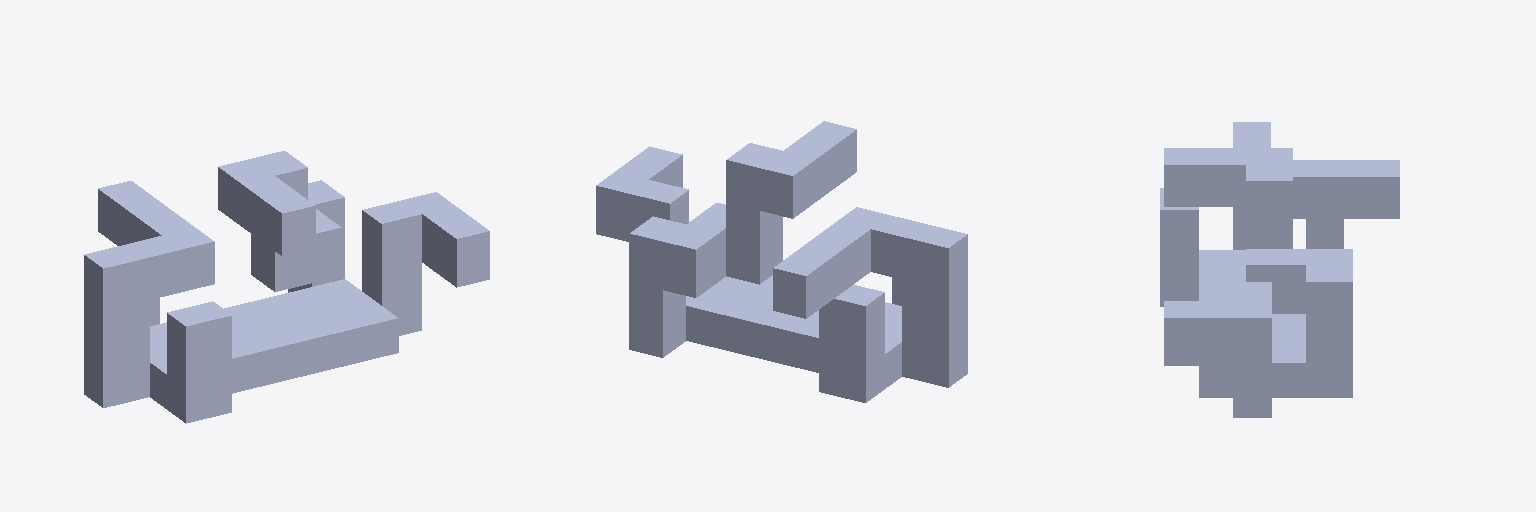
3 views of the same model, side by side, from view 1: azimuth 30°, elevation 25°; view 2: azimuth 150°, elevation 25°; view 3: azimuth 270°, elevation 25° (orthographic).
Parts seen in each view (by area): view 1: mesh_1_Thick-4.002; view 2: mesh_1_Thick-4.002; view 3: mesh_1_Thick-4.002.
Boxes of the visible parts, x1=… form: mesh_1_Thick-4.002: x1=84, y1=151, x2=489, y2=423; mesh_1_Thick-4.002: x1=596, y1=121, x2=967, y2=402; mesh_1_Thick-4.002: x1=1160, y1=122, x2=1399, y2=417.
Bounding box in the file's own units: 0.19 × 0.095 × 0.1119.